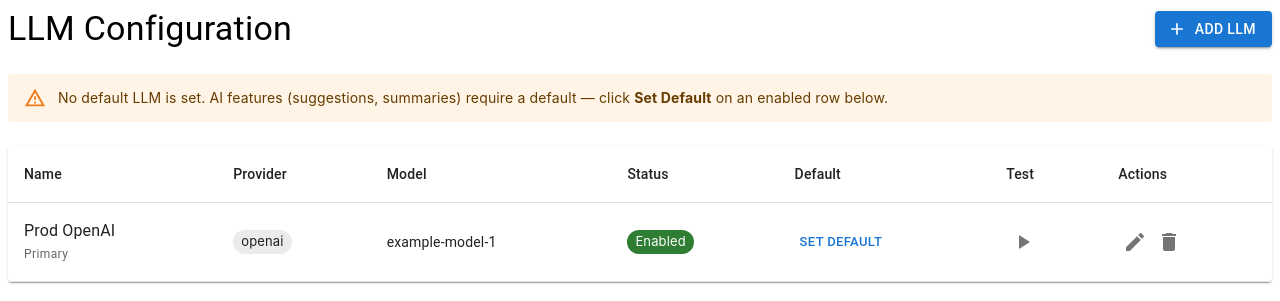
Scenario: LLMConfiguration — delete / default / test › sets a config as default
Expected: the text "Prod OpenAI" is shown, x1=24 y1=221 x2=115 y2=240
Click the button "Set Default" at [841, 242], box x1=795 y1=227 x2=887 y2=257
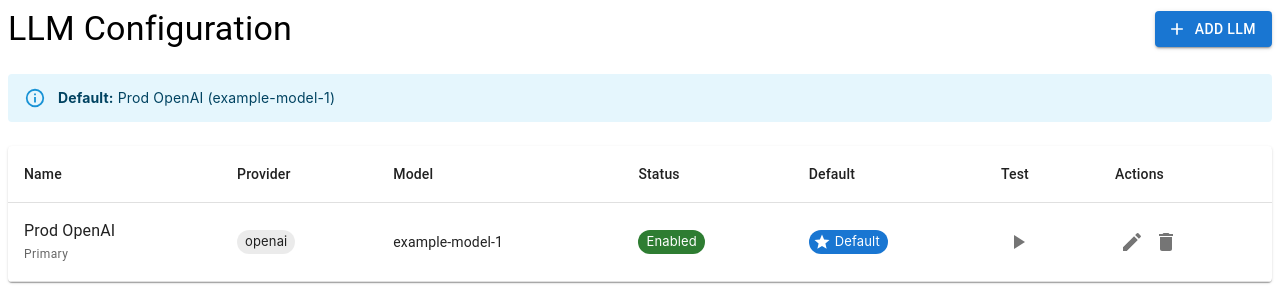
Expected: the text "Default:" is shown, x1=58 y1=89 x2=114 y2=106
